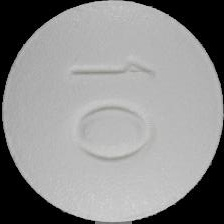16590-139: (0, 0, 224, 224)
